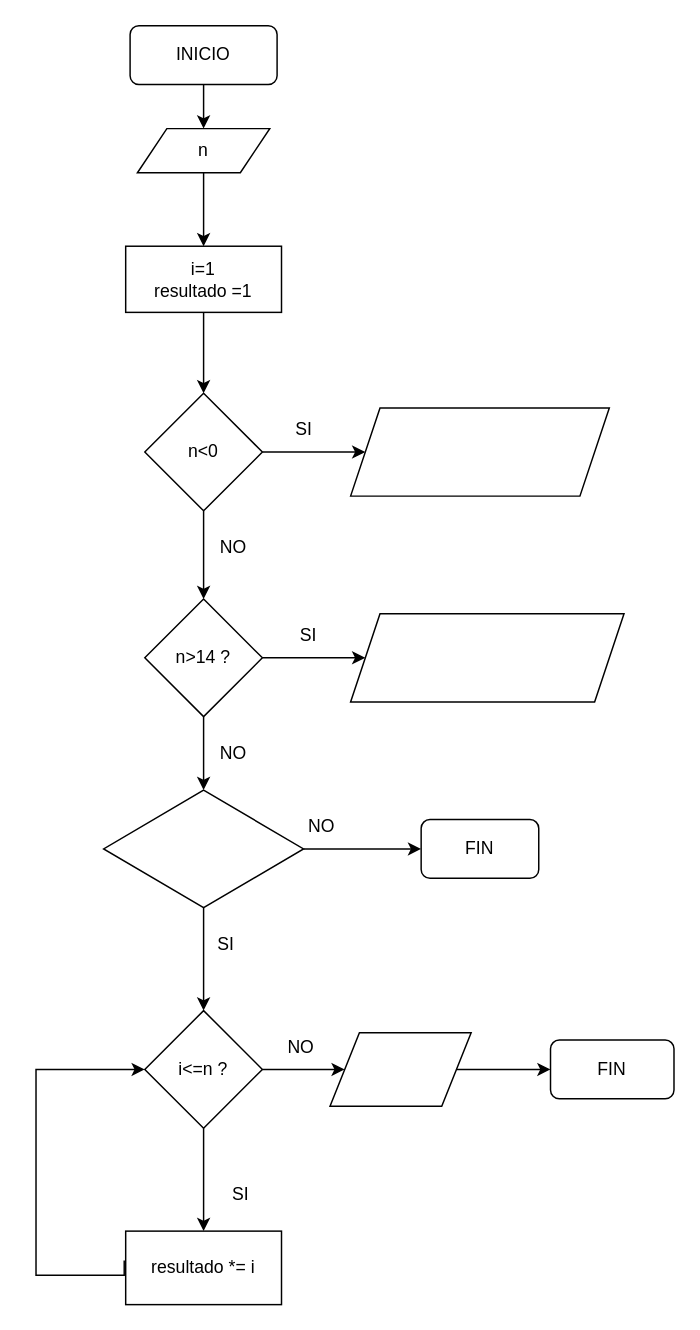
Image size: 700x1330. Some labels were removed from this diagram. The shapes that lost their labels are listed below. From the top down, each one's centre as x and y in pixels, then its label:
[479,451]: "El número es negativo. Intentelo de nuevo"
[486,657]: "El número es muy grande. Intentelo de nuevo"
[203,848]: n>=0 AND n<=14 ?
[400,1068]: resultado
